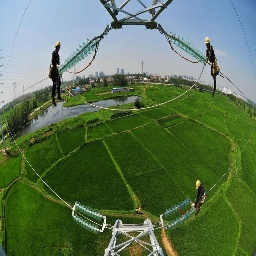helmet: (192, 179, 202, 191), (53, 40, 62, 51), (204, 37, 211, 46)
person: (204, 36, 222, 99), (49, 40, 66, 106), (193, 181, 206, 221)
